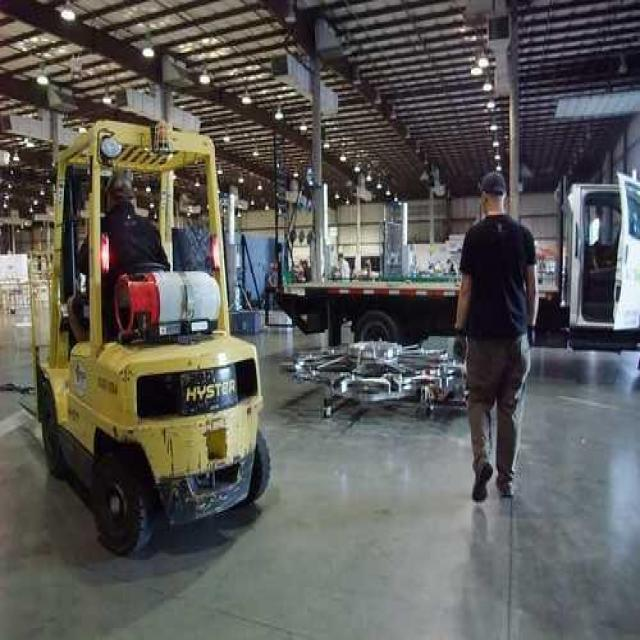Chariot elevateur: (26, 119, 272, 556)
